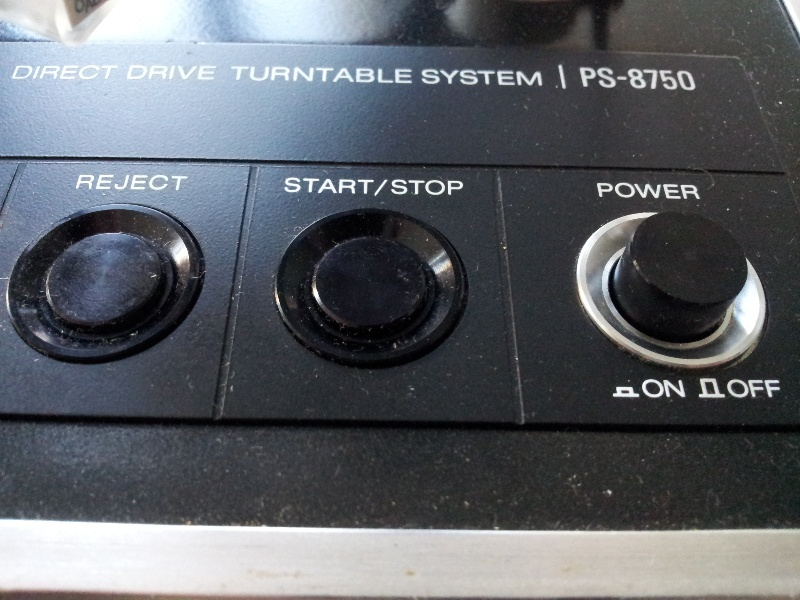text: (593, 66, 608, 91), (609, 66, 624, 91), (625, 66, 640, 91), (641, 66, 656, 91), (657, 66, 672, 91), (673, 66, 688, 91), (289, 176, 304, 198), (305, 176, 320, 198), (321, 176, 336, 198), (337, 176, 352, 198), (353, 176, 368, 198), (369, 176, 384, 198), (385, 176, 400, 198), (401, 176, 416, 198), (417, 176, 432, 198), (433, 176, 448, 198), (449, 176, 464, 198), (579, 66, 592, 91), (241, 66, 256, 85), (257, 66, 272, 85), (273, 66, 288, 85), (289, 66, 304, 85), (305, 66, 320, 85), (321, 66, 336, 85), (337, 66, 352, 85), (353, 66, 368, 85), (369, 66, 384, 85), (385, 66, 400, 85), (657, 379, 672, 398), (737, 379, 752, 398), (753, 379, 768, 398), (433, 69, 448, 87), (449, 69, 464, 87), (465, 69, 480, 87), (481, 69, 496, 87), (497, 69, 512, 87), (513, 69, 528, 87), (609, 182, 624, 200), (625, 182, 640, 200), (641, 182, 656, 200), (657, 182, 672, 200), (673, 182, 688, 200), (642, 379, 656, 398), (673, 379, 687, 398), (769, 379, 783, 398), (529, 69, 543, 87), (145, 65, 160, 81), (161, 65, 176, 81), (177, 65, 192, 81), (193, 65, 208, 81), (81, 175, 96, 191), (97, 175, 112, 191), (113, 175, 128, 191), (129, 175, 144, 191), (145, 175, 160, 191), (161, 175, 176, 191), (401, 66, 413, 85), (17, 65, 32, 80), (33, 65, 48, 80), (49, 65, 64, 80), (65, 65, 80, 80), (81, 65, 96, 80), (97, 65, 112, 80), (689, 66, 698, 91), (689, 182, 701, 200), (131, 65, 144, 81), (597, 182, 608, 200), (177, 175, 189, 191), (726, 379, 736, 398), (422, 69, 432, 87), (231, 66, 240, 85), (561, 64, 567, 89), (209, 65, 217, 81), (113, 65, 119, 80), (285, 176, 288, 198), (558, 64, 560, 89)
